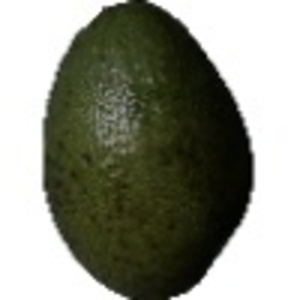abacate: (37, 3, 257, 298)
